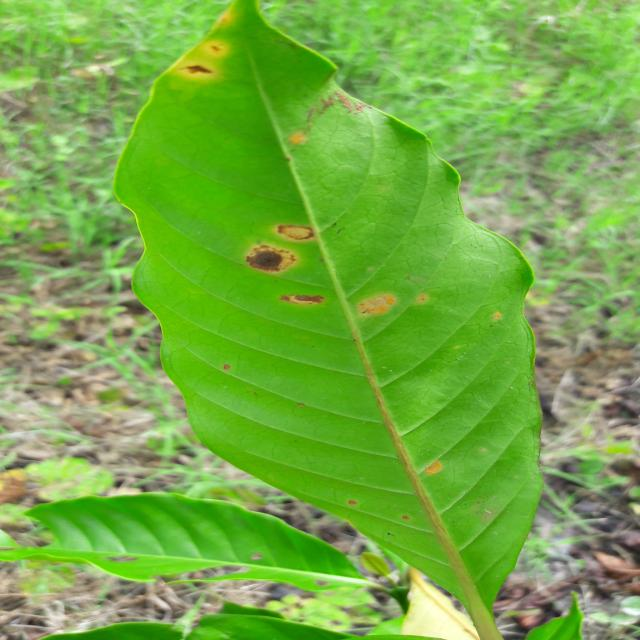Enfermedad-Roya: (113, 0, 544, 640)
